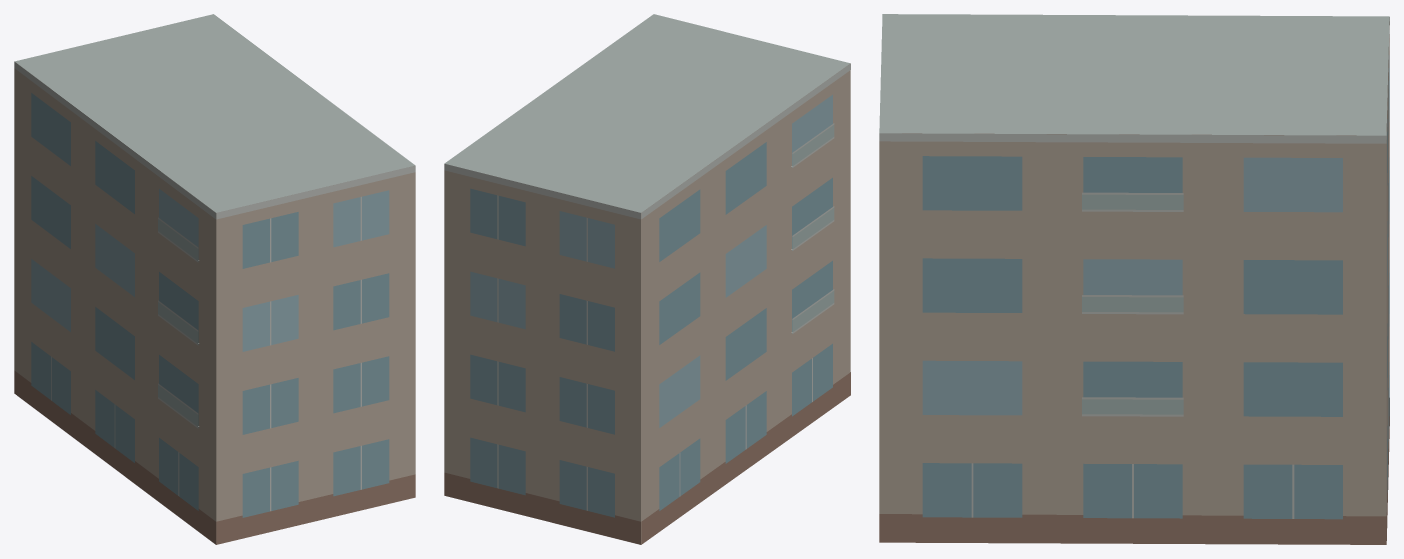
The model's file is survey-upis-32811505.glb.
3 views of the same model, side by side, from view 1: azimuth 30°, elevation 25°; view 2: azimuth 150°, elevation 25°; view 3: azimuth 270°, elevation 25° (orthographic). The views are drawn at different scales.
Parts seen in each view (by area): view 1: survey-upis-32811505.tmp; view 2: survey-upis-32811505.tmp; view 3: survey-upis-32811505.tmp.
Boxes of the visible parts, x1,y1,x2,y2 form: survey-upis-32811505.tmp: (14,14,415,544); survey-upis-32811505.tmp: (444,14,850,544); survey-upis-32811505.tmp: (879,14,1389,544).
Bounding box in the file's own units: 7.8 × 12.2 × 13.8.
